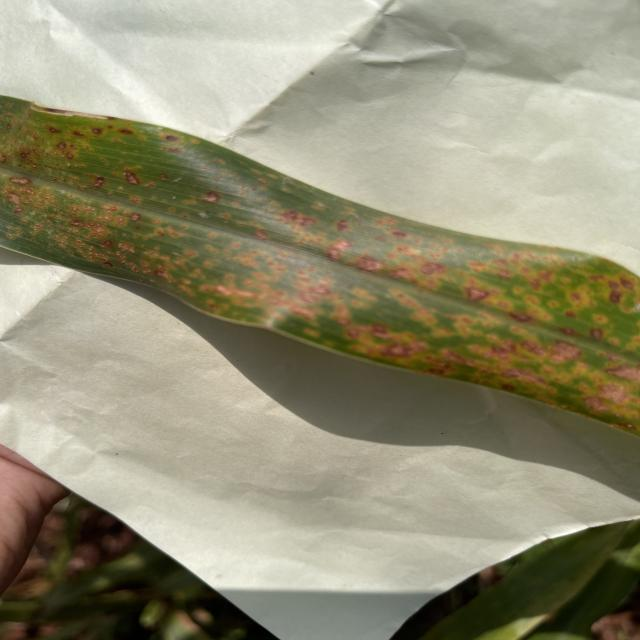millet_rust: (0, 88, 640, 439)
